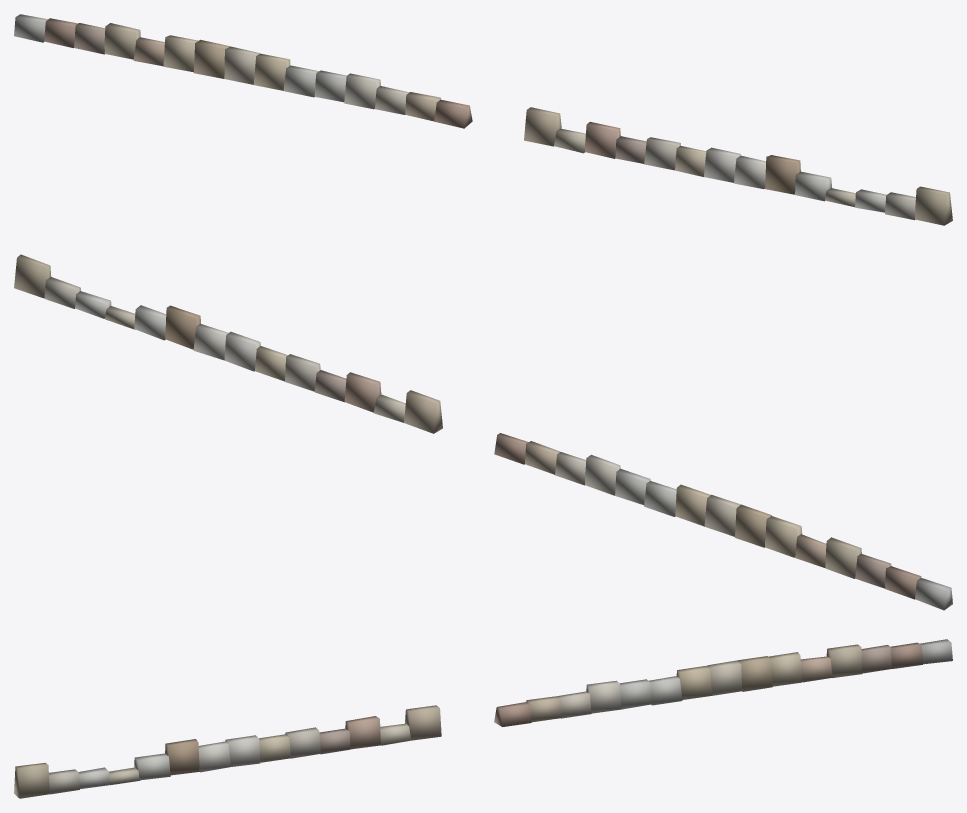
File: farm_2_4_far.glb
The picture shows the model from 3 angles, top to bottom: view 1: azimuth 30°, elevation 25°; view 2: azimuth 210°, elevation 25°; view 3: azimuth 270°, elevation 25°; orthographic projection. The views are drawn at different scales.
Parts seen in each view (by area): view 1: geometry_0; view 2: geometry_0; view 3: geometry_0.
Boxes of the visible parts, x1,y1,x2,y2 form: geometry_0: (14,14,952,225); geometry_0: (14,254,952,610); geometry_0: (14,639,952,798).
Bounding box in the file's own units: 22.8 × 4.67 × 43.92.
